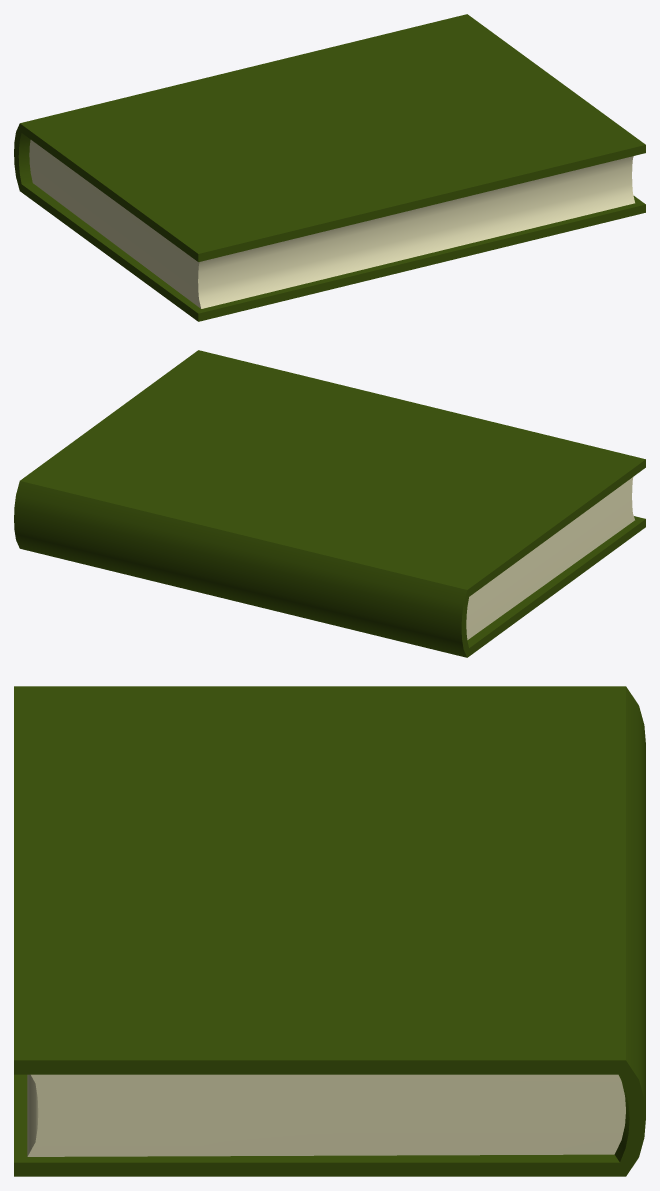
File: Book.fbx
3 views of the same model, one above another, from view 1: azimuth 30°, elevation 25°; view 2: azimuth 150°, elevation 25°; view 3: azimuth 270°, elevation 25° (orthographic). The views are drawn at different scales.
Parts seen in each view (by area): view 1: Prop_Book_01; view 2: Prop_Book_01; view 3: Prop_Book_01.
Part boxes in pixels (<box>): Prop_Book_01: <box>14,14,645,321</box>; Prop_Book_01: <box>14,350,645,657</box>; Prop_Book_01: <box>14,686,645,1176</box>.
Size of the model in its own units: 32.39 by 4.69 by 23.12.
